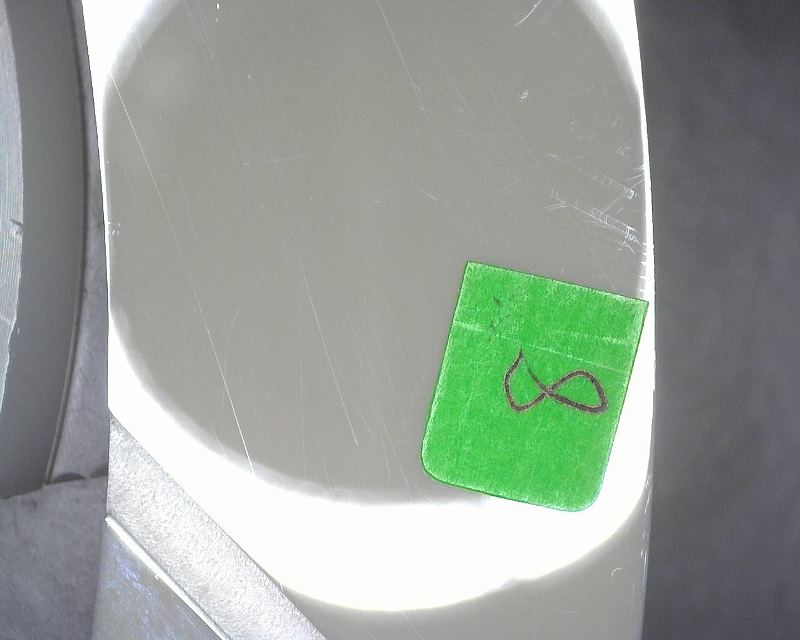scratch: (189, 283, 258, 477), (296, 264, 362, 445), (113, 77, 179, 232), (548, 146, 641, 252), (380, 6, 445, 152), (513, 3, 543, 27), (519, 85, 532, 104)
